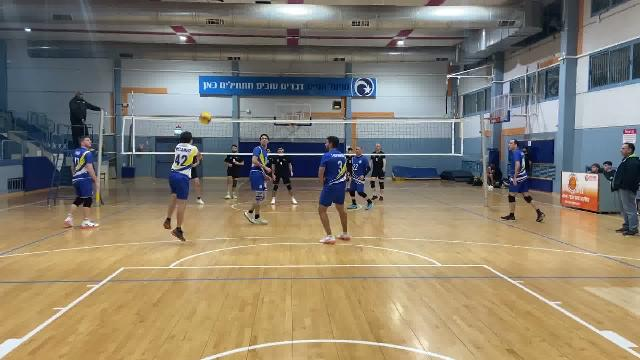ball: (196, 112, 213, 126)
